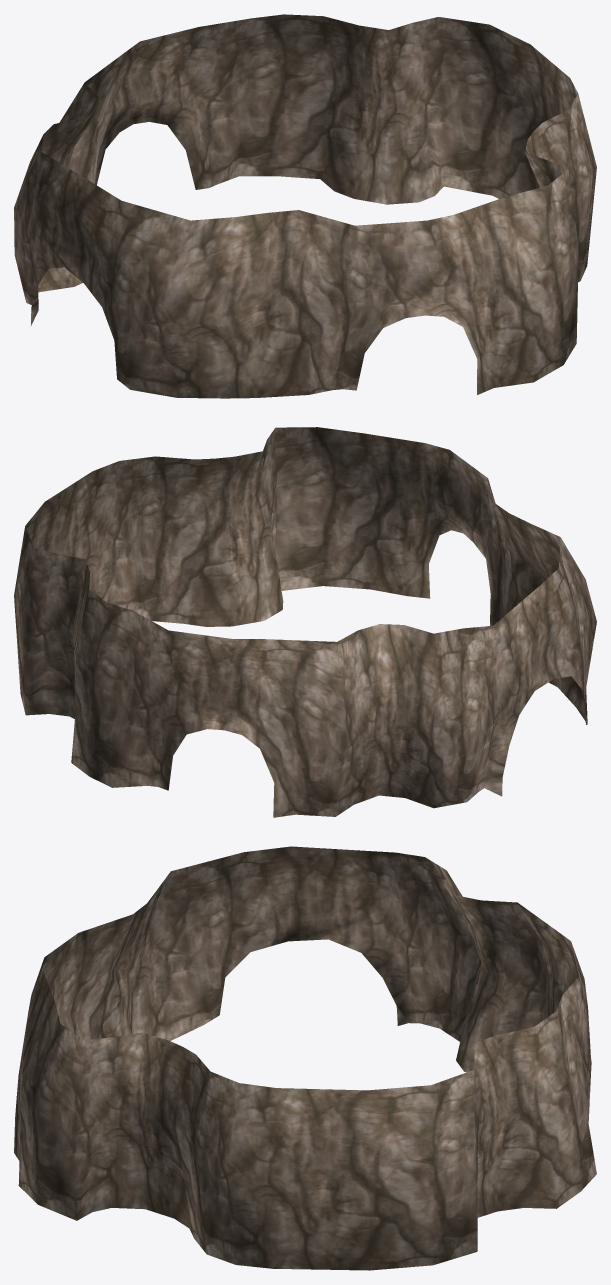
Rendered from EKH_JAIL_PS_JA_SM_CAVE_WALL93837.fbx.
3 views of the same model, one above another, from view 1: azimuth 30°, elevation 25°; view 2: azimuth 150°, elevation 25°; view 3: azimuth 270°, elevation 25° (orthographic). The views are drawn at different scales.
Parts seen in each view (by area): view 1: EKH_JAIL_PS_JA_SM_CAVE_WALL93837; view 2: EKH_JAIL_PS_JA_SM_CAVE_WALL93837; view 3: EKH_JAIL_PS_JA_SM_CAVE_WALL93837.
Part boxes in pixels (x1,y1,x2,y2): EKH_JAIL_PS_JA_SM_CAVE_WALL93837: (14,14,596,398); EKH_JAIL_PS_JA_SM_CAVE_WALL93837: (14,427,596,817); EKH_JAIL_PS_JA_SM_CAVE_WALL93837: (14,846,596,1270).
Bounding box in the file's own units: 127732 × 43799 × 125181.
1 material, 1 textured.
